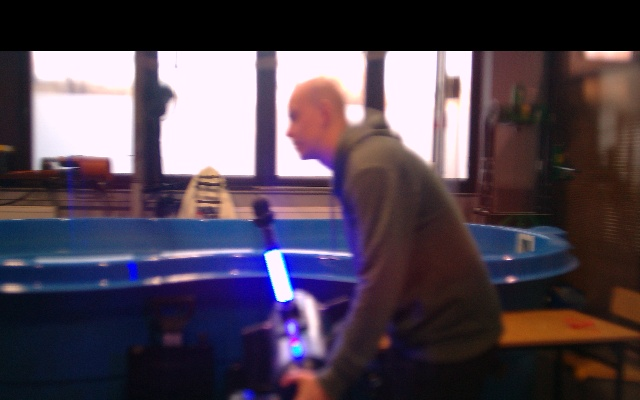blue: (263, 251, 294, 303)
